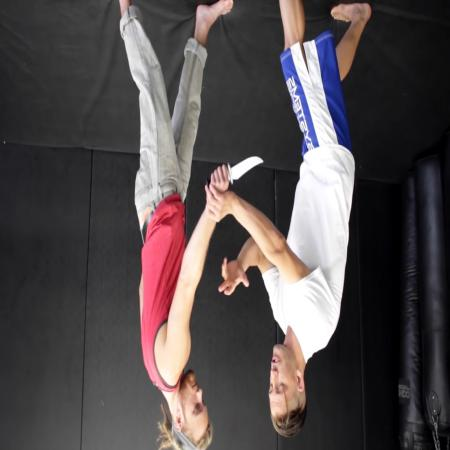long weapon: (203, 146, 266, 192)
